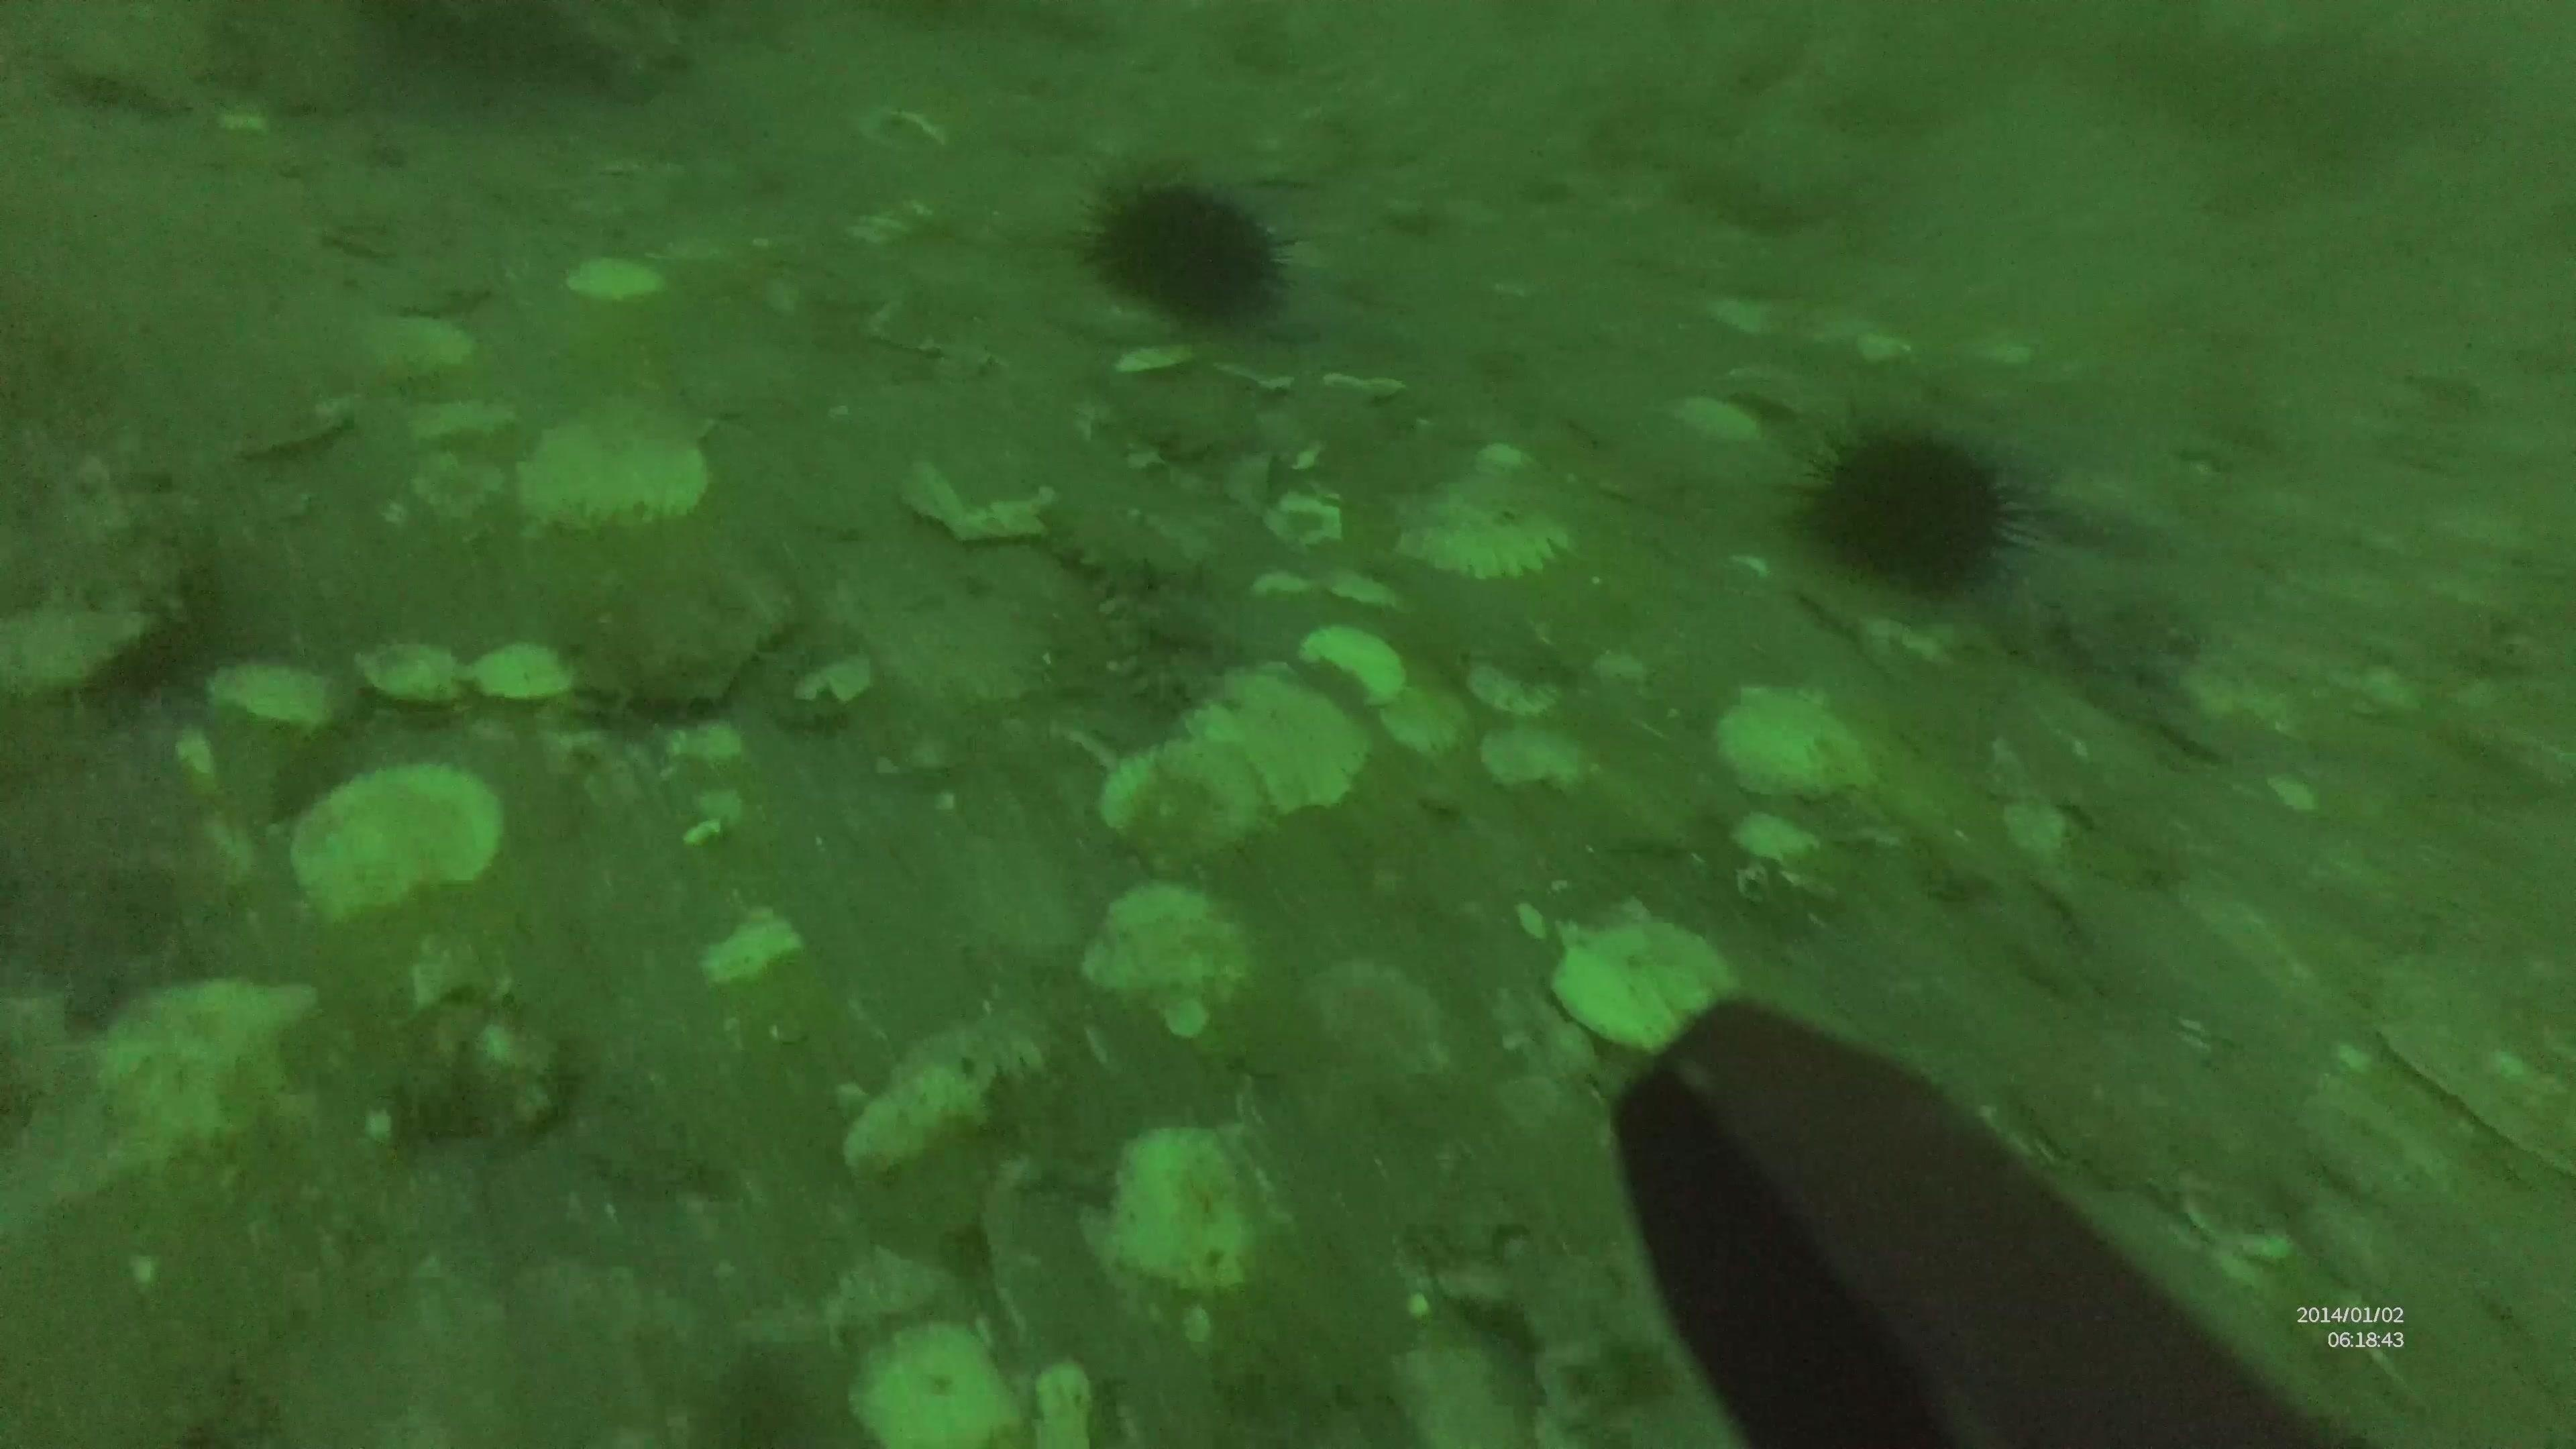echinus: (1790, 414, 2035, 605), (1077, 166, 1293, 334)
holothurian: (1037, 494, 1233, 724)
scallop: (287, 761, 504, 929), (1093, 1118, 1288, 1304), (1545, 904, 1737, 1063), (517, 395, 715, 540), (1185, 667, 1368, 821), (1081, 878, 1258, 1031), (1389, 456, 1585, 589), (1095, 734, 1272, 878), (1711, 679, 1875, 810), (1292, 619, 1412, 718)
